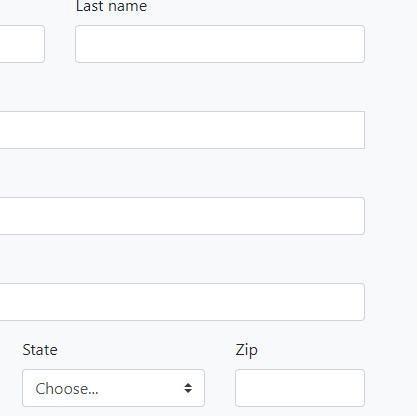field: (72, 22, 367, 65), (16, 367, 209, 409), (234, 366, 368, 411)
field_with_label: (11, 340, 215, 413), (230, 340, 371, 414)
